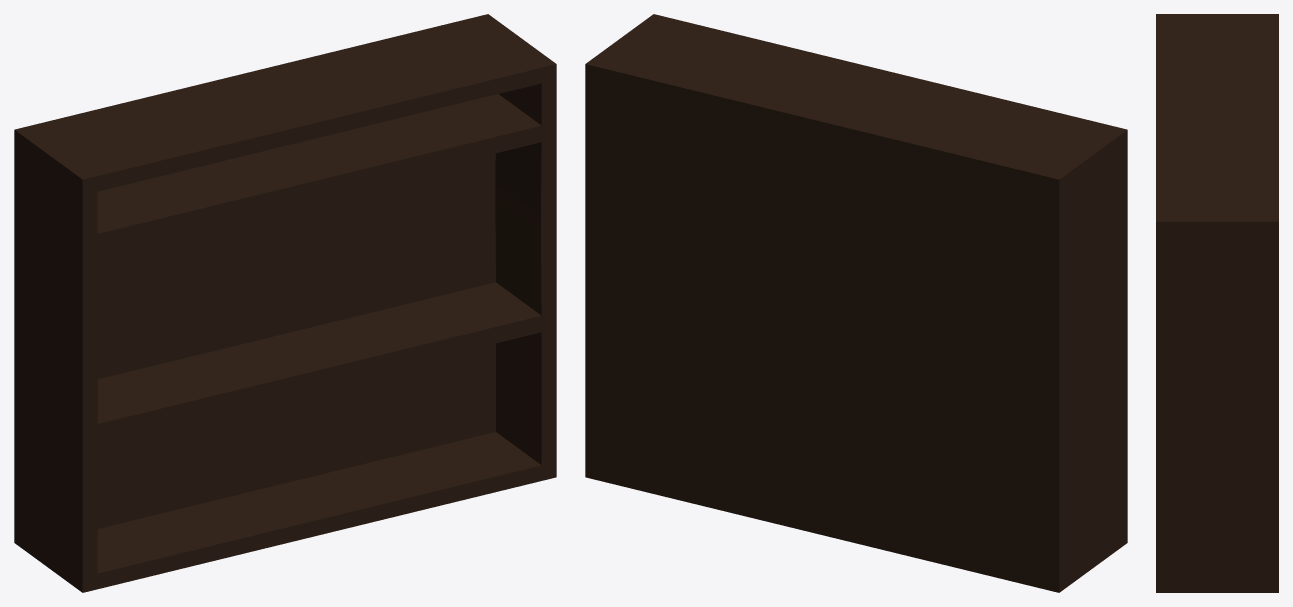
File: Shelves_4_2.fbx
3 renders of one model, left to right at view 1: azimuth 30°, elevation 25°; view 2: azimuth 150°, elevation 25°; view 3: azimuth 270°, elevation 25°, orthographic. The views are drawn at different scales.
Parts seen in each view (by area): view 1: Shelf_4Test_2; view 2: Shelf_4Test_2; view 3: Shelf_4Test_2.
Boxes of the visible parts, bbox=[...] form: Shelf_4Test_2: bbox=[14, 14, 556, 592]; Shelf_4Test_2: bbox=[585, 14, 1127, 592]; Shelf_4Test_2: bbox=[1156, 14, 1278, 592].
Size of the model in its own units: 600 by 500 by 150.
